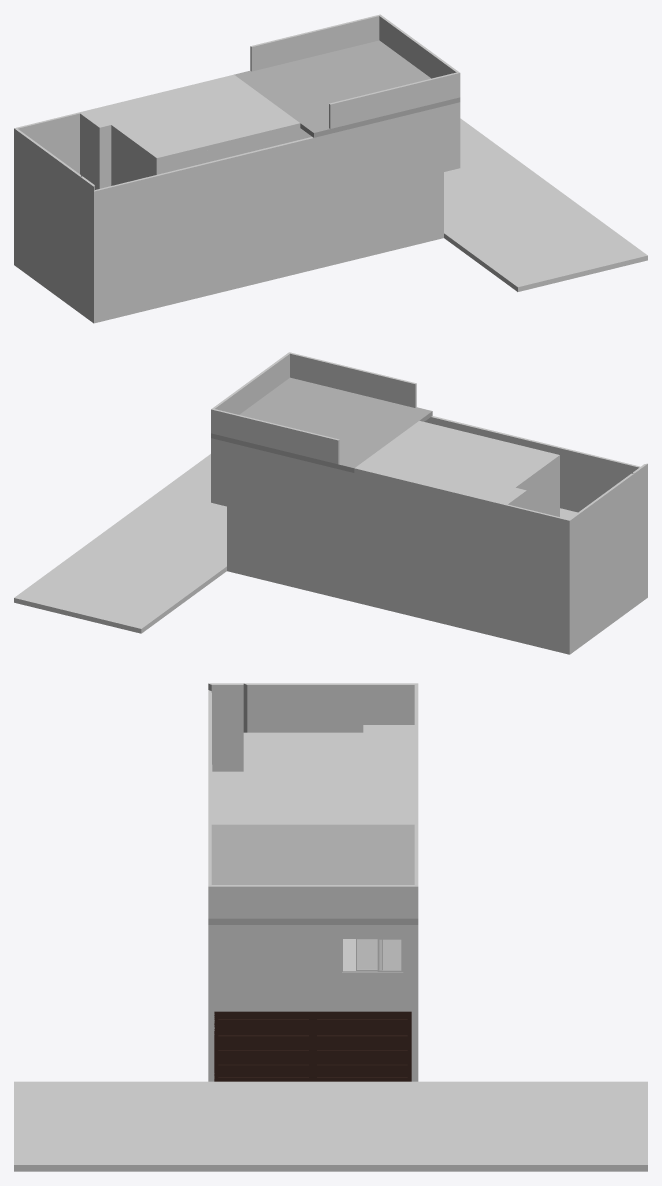
Rendered from casa.glb.
3 renders of one model, top to bottom at view 1: azimuth 30°, elevation 25°; view 2: azimuth 150°, elevation 25°; view 3: azimuth 270°, elevation 25°, orthographic. The views are drawn at different scales.
Visible parts, largest first — view 1: Cube.058, Cube.109, Cube.125, Cube.111, Cube.077, Cube.017, Cube.084, Cube.116, Cube.115, Cube.072, Cube.074, Cube.073 (+6 smaller); view 2: Cube.125, Cube.111, Cube.077, Cube.110, Cube.113, Cube.097, Cube.085, Cube.017, Cube.072, Cube.109, Cube.081, Cube.084 (+14 smaller); view 3: Cube.125, Cube.111, Cube.108, Cube.077, Cube.017, Cube.016, Plane, Plane.001, Cube.118, Cube.112, Cube.073, Cube.107 (+3 smaller).
Boxes of the visible parts, bbox=[...] form: Cube.058: bbox=[94, 167, 443, 318]; Cube.109: bbox=[94, 102, 460, 252]; Cube.125: bbox=[444, 118, 647, 291]; Cube.111: bbox=[91, 74, 300, 162]; Cube.077: bbox=[234, 40, 460, 137]; Cube.017: bbox=[14, 128, 81, 242]; Cube.084: bbox=[14, 199, 80, 308]; Cube.116: bbox=[329, 72, 460, 128]; Cube.115: bbox=[250, 14, 379, 71]; Cube.072: bbox=[15, 112, 79, 173]; Cube.074: bbox=[80, 233, 443, 323]; Cube.073: bbox=[80, 176, 94, 318]; Cube.125: bbox=[14, 454, 226, 633]; Cube.111: bbox=[354, 421, 559, 507]; Cube.077: bbox=[211, 377, 432, 472]; Cube.110: bbox=[211, 438, 354, 532]; Cube.113: bbox=[227, 506, 354, 597]; Cube.097: bbox=[354, 473, 449, 555]; Cube.085: bbox=[495, 572, 569, 649]; Cube.017: bbox=[569, 473, 634, 584]; Cube.072: bbox=[506, 504, 569, 585]; Cube.109: bbox=[424, 416, 640, 512]; Cube.081: bbox=[429, 556, 494, 631]; Cube.084: bbox=[569, 543, 634, 649]; Cube.125: bbox=[14, 1081, 647, 1171]; Cube.111: bbox=[243, 732, 418, 824]; Cube.108: bbox=[208, 925, 418, 1005]; Cube.077: bbox=[208, 824, 418, 924]; Cube.017: bbox=[243, 683, 417, 732]; Cube.016: bbox=[208, 885, 418, 918]; Plane: bbox=[317, 1011, 407, 1077]; Plane.001: bbox=[218, 1011, 308, 1077]; Cube.118: bbox=[313, 1011, 411, 1081]; Cube.112: bbox=[214, 1011, 312, 1081]; Cube.073: bbox=[208, 683, 243, 771]; Cube.107: bbox=[343, 939, 401, 970].
Bounding box in the file's own units: 41.15 × 13.2 × 35.78.
